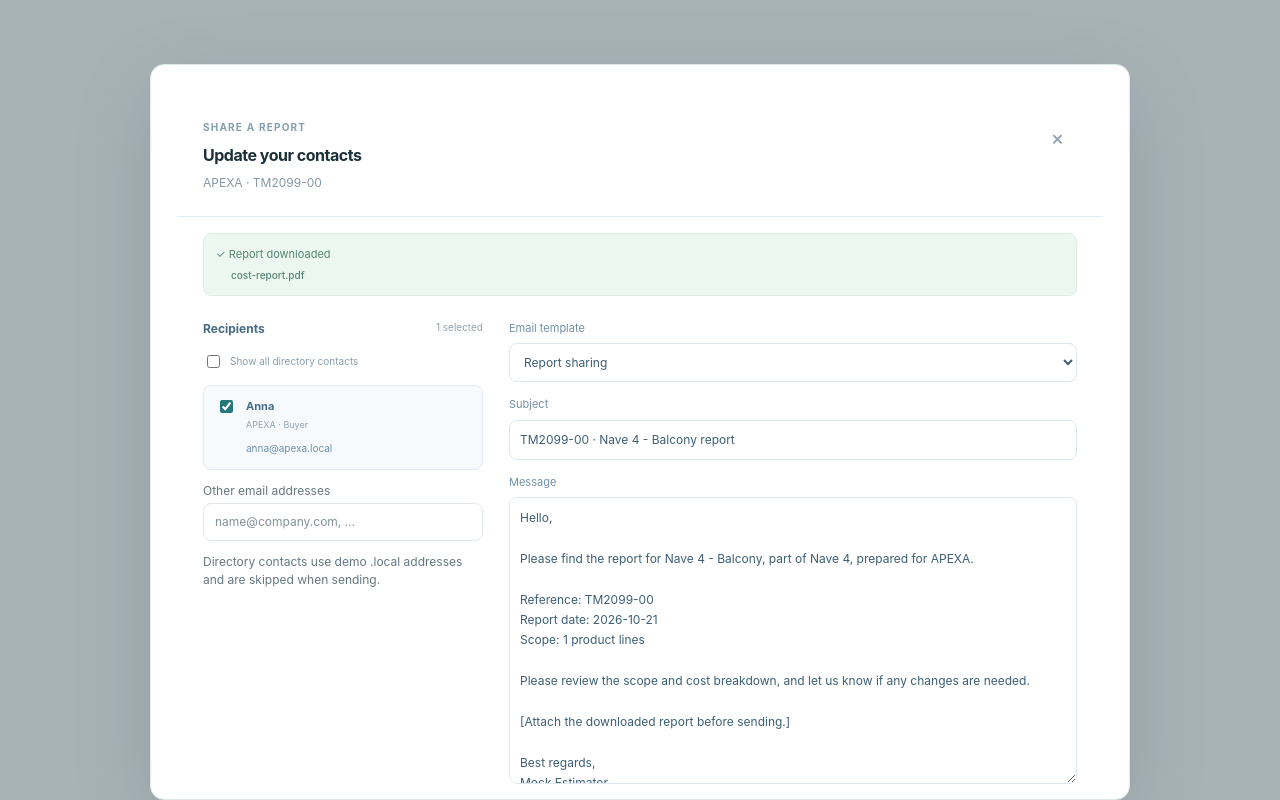
Scenario: Report emails › selects customer contacts, offers templates and opens an editable mail draft without sending
This screenshot has width=1280, height=800.
Expected: the checkbox labelled "Anna APEXA · Buyer anna@apexa.local" is checked, [220,400,233,412]
Expected: the text "Claire" is not shown
Select "Cost / price update" in the dropdown labelled "Email template" at x=793, y=362, box [509,343,1077,382]
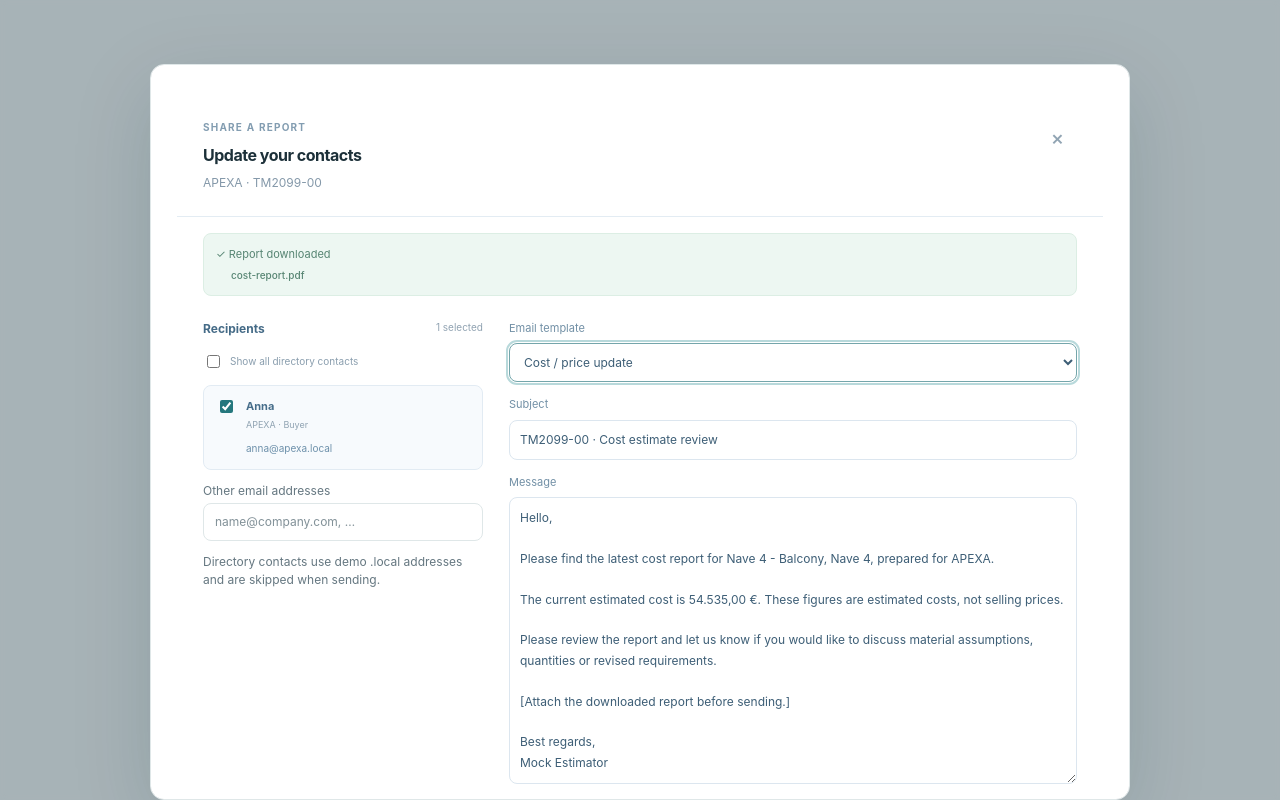
Click the checkbox labelled "Anna APEXA · Buyer anna@apexa.local" at x=226, y=406, box [220,400,233,412]
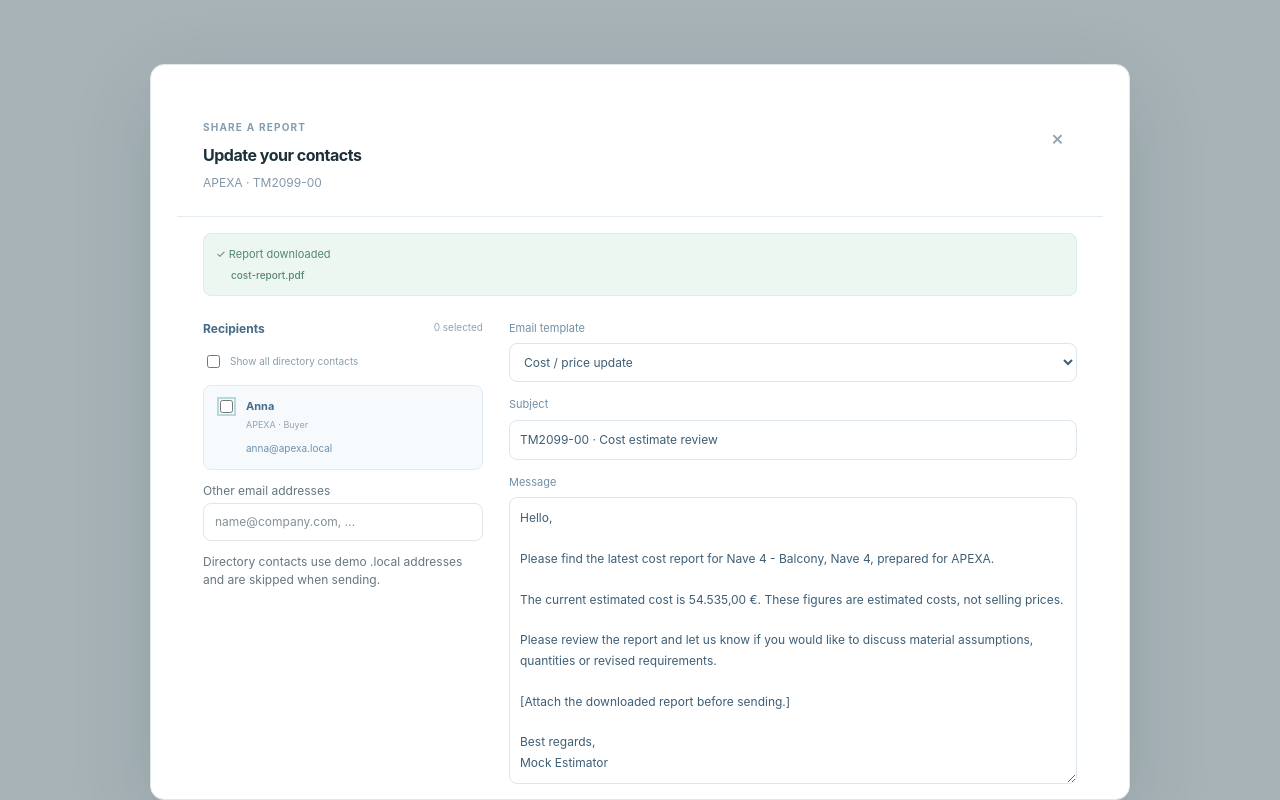
Click the checkbox labelled "Show all directory contacts" at x=214, y=361, box [207,354,220,368]
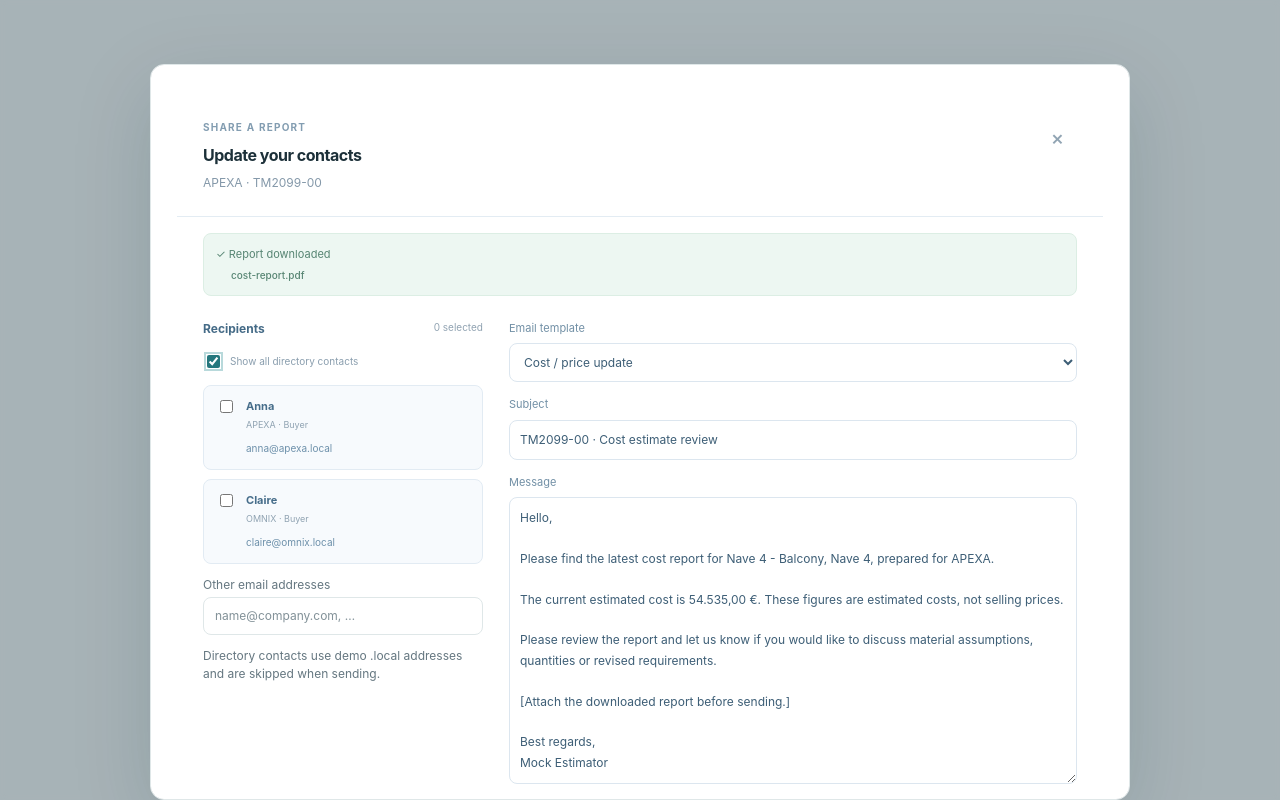
Result: the checkbox labelled "Claire OMNIX · Buyer claire@omnix.local" is not checked at [220,494,233,506]
